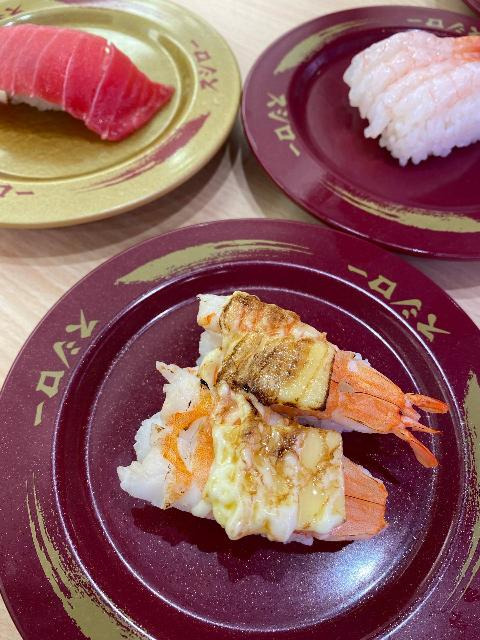jangold: (0, 1, 238, 207)
janred: (18, 224, 480, 597), (246, 0, 480, 248)
